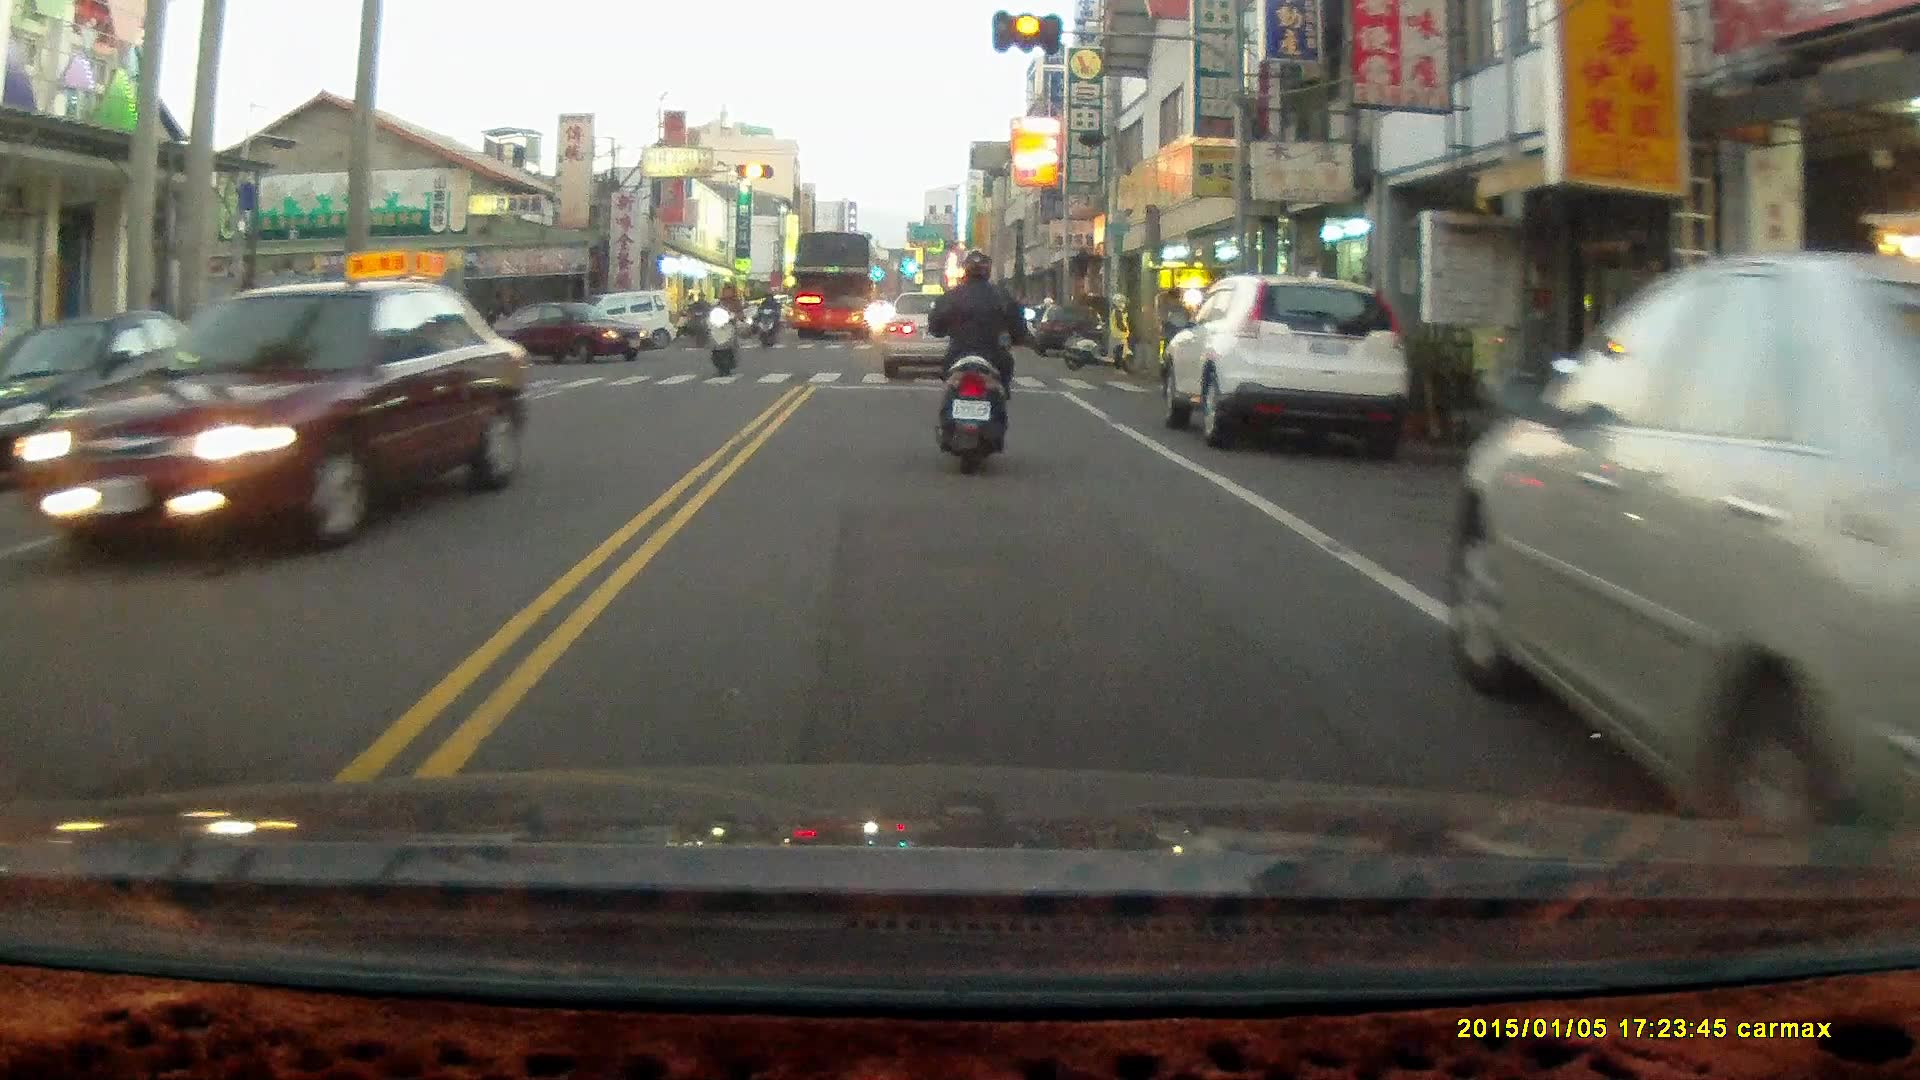pedestrian: (1157, 285, 1187, 385), (1104, 292, 1133, 376)
rider: (927, 247, 1034, 476), (703, 279, 743, 377), (685, 288, 711, 348), (756, 287, 778, 351)
vehicle: (1453, 232, 1919, 822), (41, 279, 517, 565), (1162, 275, 1413, 449), (1, 313, 253, 477), (788, 230, 878, 344), (880, 292, 987, 379), (502, 299, 644, 364)
